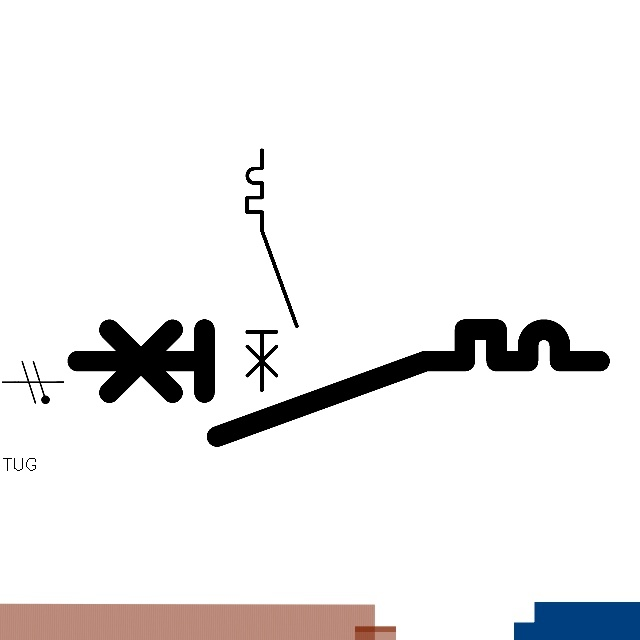interruptor_termomagnetico: (64, 316, 613, 450), (241, 144, 303, 397)
